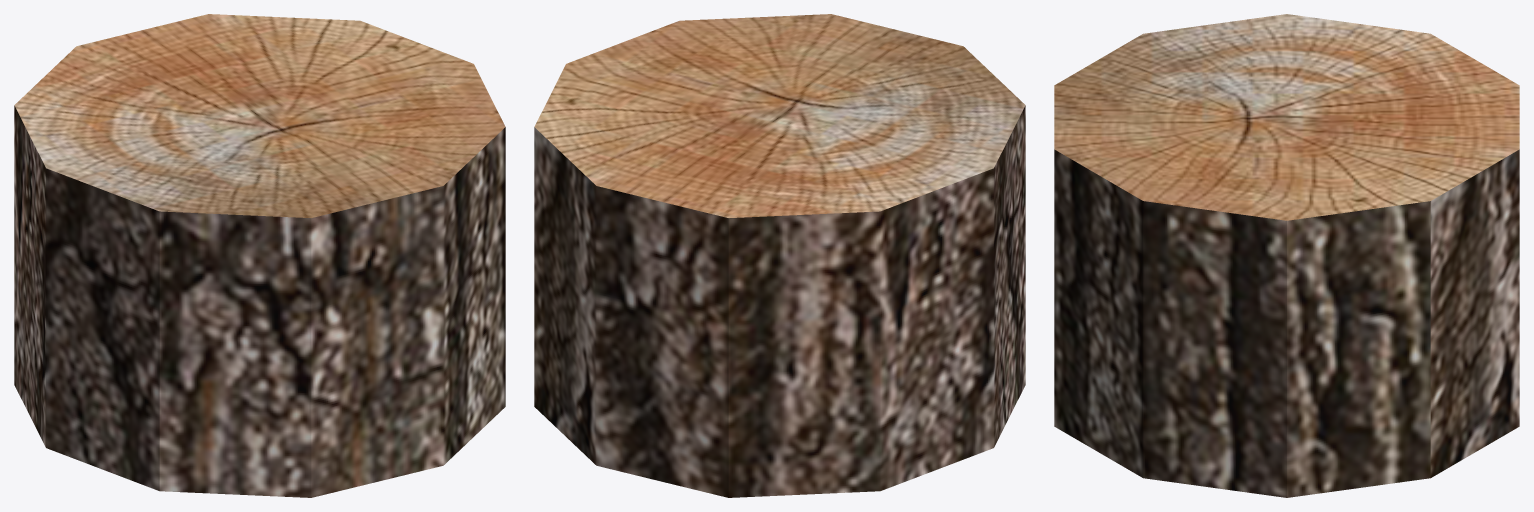
Rendered from StumpPrim1.fbx.
3 views of the same model, side by side, from view 1: azimuth 30°, elevation 25°; view 2: azimuth 150°, elevation 25°; view 3: azimuth 270°, elevation 25° (orthographic).
Parts seen in each view (by area): view 1: pCylinder38; view 2: pCylinder38; view 3: pCylinder38.
Part boxes in pixels (<box>): pCylinder38: <box>14,14,505,497</box>; pCylinder38: <box>534,14,1025,497</box>; pCylinder38: <box>1054,14,1519,497</box>.
Size of the model in its own units: 8 by 5 by 7.61.
Materials: 1 (1 with a texture image).
